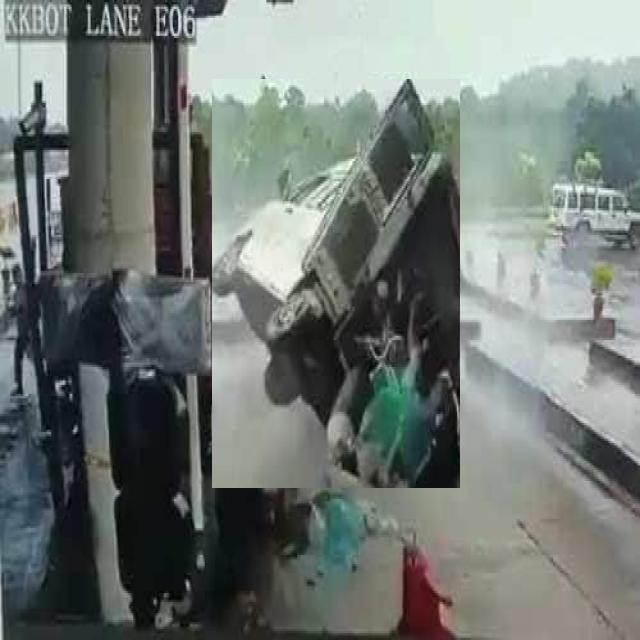accident: (212, 79, 460, 488)
